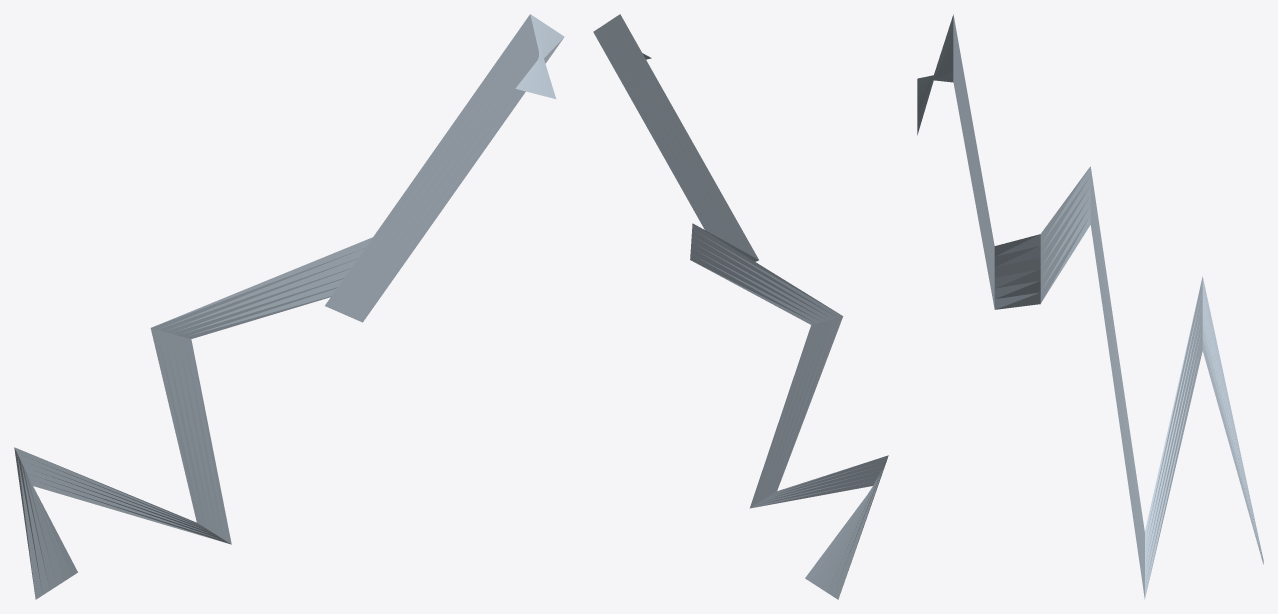
The model's file is 2059_ElectroSurround_SurroundArc12.fbx.
3 views of the same model, side by side, from view 1: azimuth 30°, elevation 25°; view 2: azimuth 150°, elevation 25°; view 3: azimuth 270°, elevation 25° (orthographic). The views are drawn at different scales.
Parts seen in each view (by area): view 1: PART_SurroundArc12; view 2: PART_SurroundArc12; view 3: PART_SurroundArc12.
Boxes of the visible parts, left/top/right/bottom form: PART_SurroundArc12: left=14, top=14, right=564, bottom=599; PART_SurroundArc12: left=593, top=14, right=888, bottom=599; PART_SurroundArc12: left=917, top=14, right=1263, bottom=599.
Bounding box in the file's own units: 44.73 × 52.72 × 20.3.
